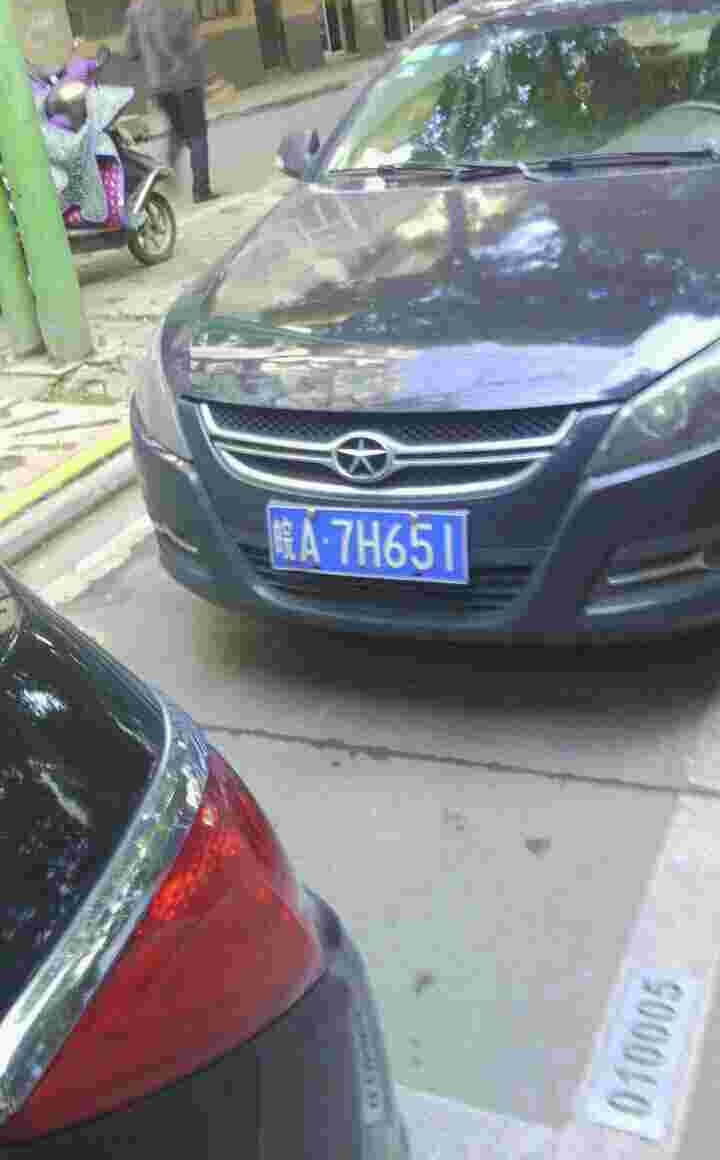license_plate: (280, 506, 464, 576)
